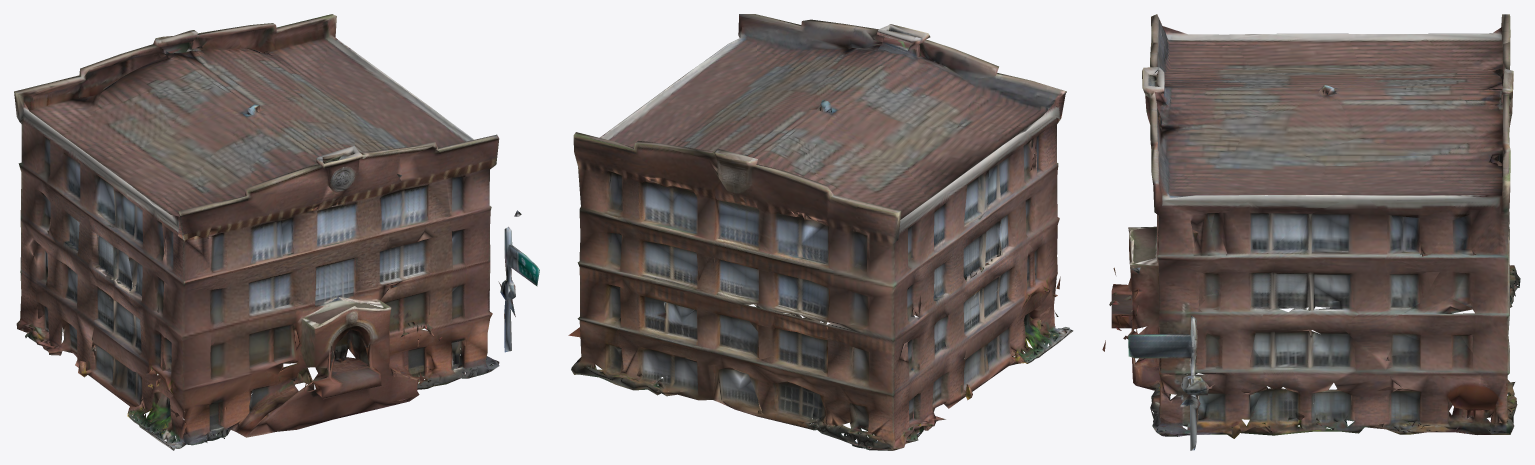
File: Old_RIT.glb
The picture shows the model from 3 angles, left to right: view 1: azimuth 30°, elevation 25°; view 2: azimuth 150°, elevation 25°; view 3: azimuth 270°, elevation 25°; orthographic projection. The views are drawn at different scales.
Size of the model in its own units: 1.97 by 1.32 by 1.81.
1 material, 1 textured.
